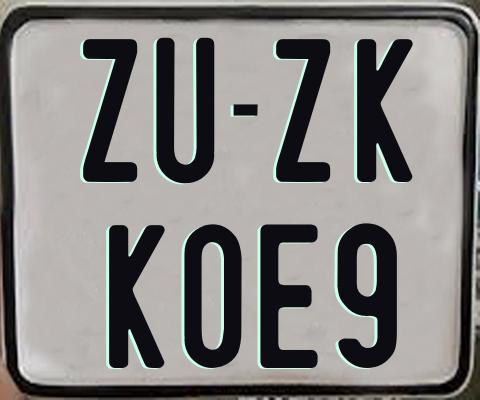0: (183, 224, 241, 373)
9: (337, 221, 398, 369)
E: (258, 224, 321, 374)
K: (357, 36, 417, 180), (109, 225, 168, 371)
U: (153, 35, 216, 183)
Z: (80, 36, 140, 185), (276, 39, 330, 182)
